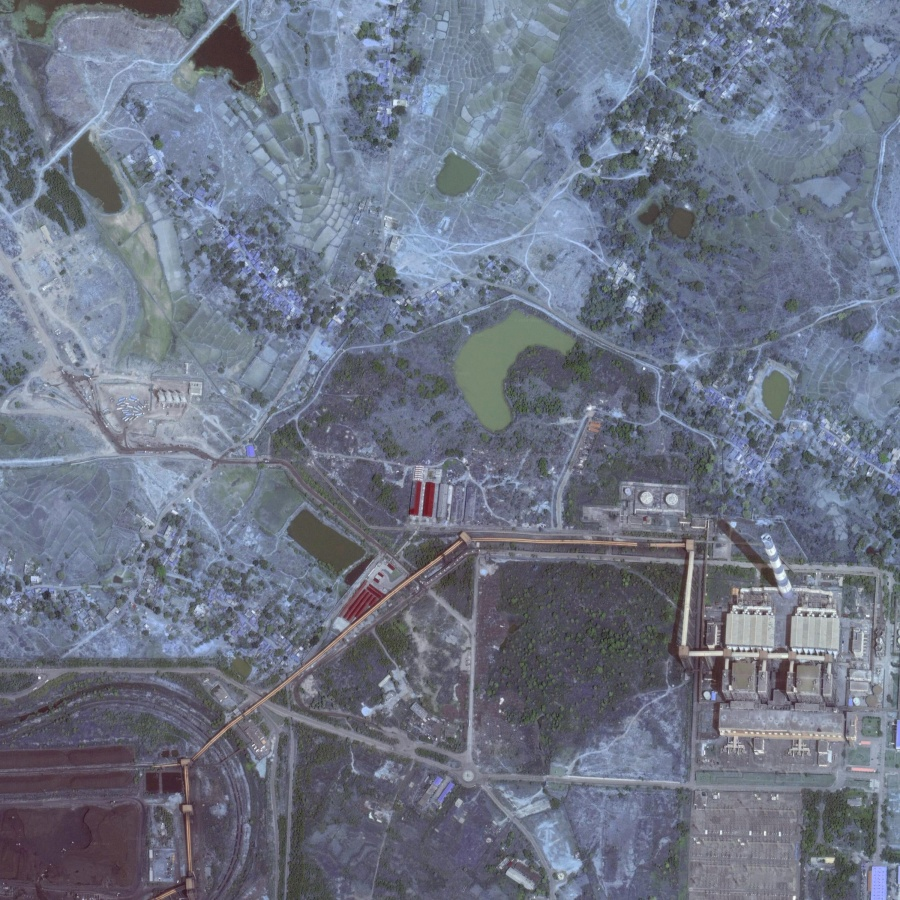PowerPlant: (692, 494, 846, 627)
